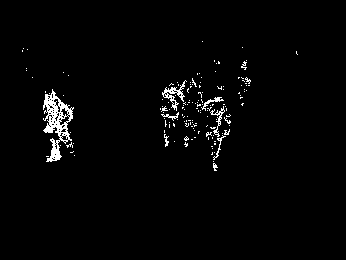person: (41, 89, 75, 163), (201, 90, 231, 172), (160, 80, 183, 148), (181, 82, 202, 148)
